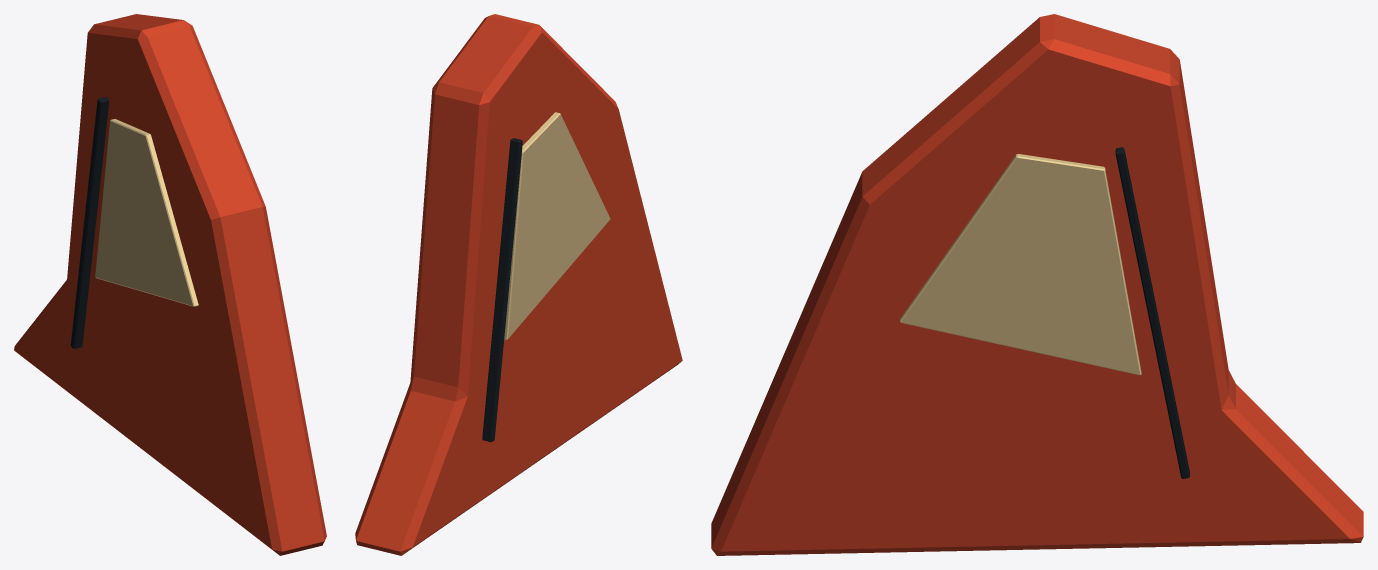
The model's file is EA_TallTailFin.fbx.
The picture shows the model from 3 angles, left to right: view 1: azimuth 30°, elevation 25°; view 2: azimuth 150°, elevation 25°; view 3: azimuth 270°, elevation 25°; orthographic projection. The views are drawn at different scales.
Visible parts, largest first — view 1: EA_TallTailFin; view 2: EA_TallTailFin; view 3: EA_TallTailFin.
Part boxes in pixels (x1,y1,x2,y2): EA_TallTailFin: (14, 14, 326, 555); EA_TallTailFin: (355, 14, 682, 555); EA_TallTailFin: (711, 14, 1363, 555).
Size of the model in its own units: 0.142 by 0.7759 by 0.8876.
Materials: 3 (3 with a texture image).
